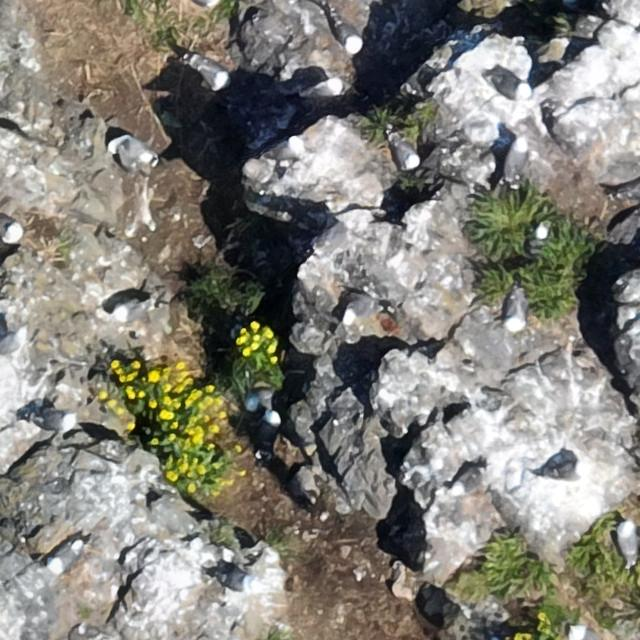umineko: (107, 136, 156, 170), (293, 78, 348, 108), (491, 63, 533, 101), (502, 134, 528, 183), (221, 570, 264, 596), (50, 540, 81, 570), (504, 298, 526, 340), (35, 410, 78, 431), (545, 460, 590, 480), (194, 59, 226, 86), (334, 18, 360, 50), (344, 299, 380, 320), (452, 470, 482, 495), (617, 525, 636, 564), (113, 300, 148, 321), (394, 140, 418, 170), (260, 408, 279, 442), (2, 221, 23, 244), (188, 0, 217, 6)
